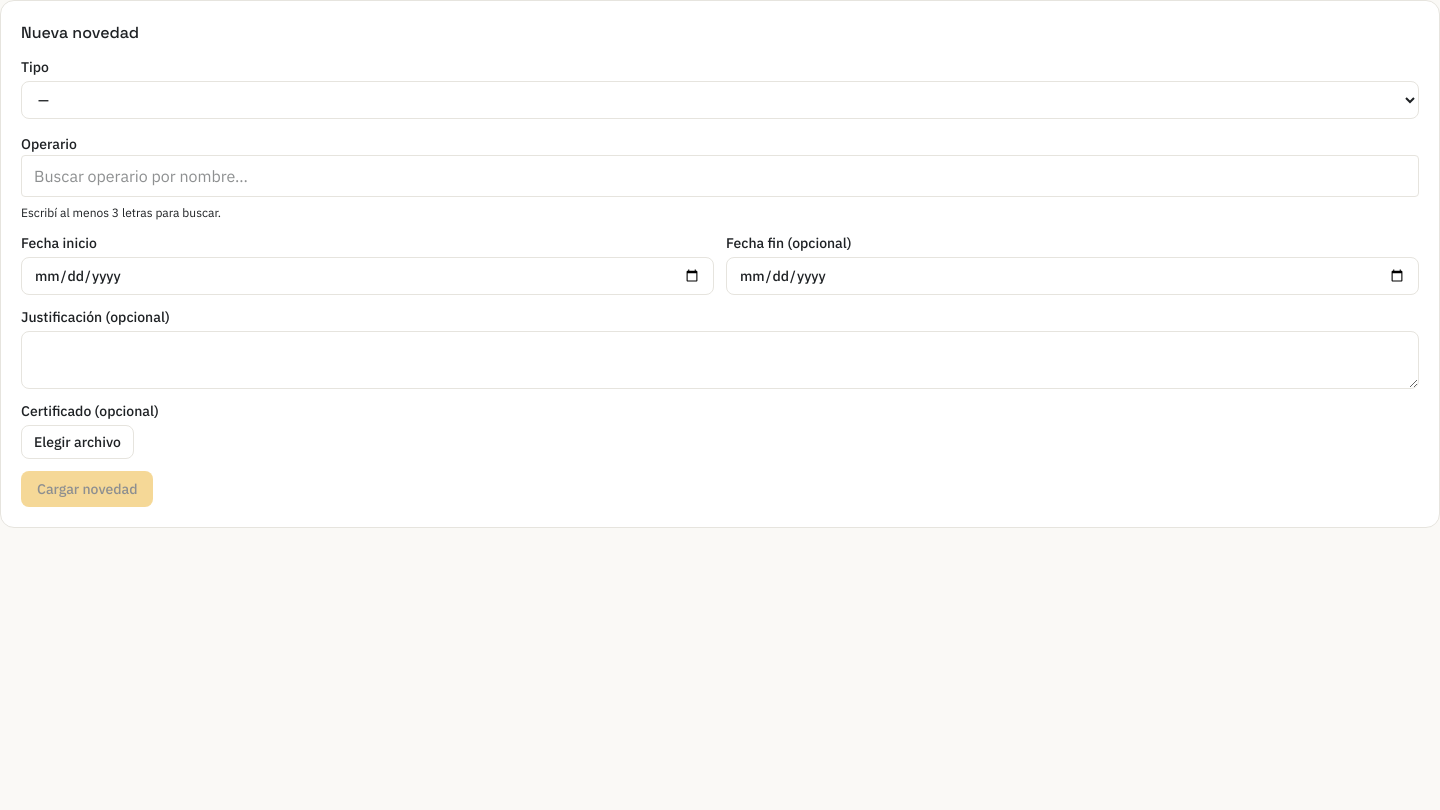
Test case: NuevaNovedadForm › Baja de Operario › cancelar la confirmación no envía nada
Type "gomez" into the field with placeholder "Buscar operario por nombre…" at [720, 176], box [21,155,1419,197]
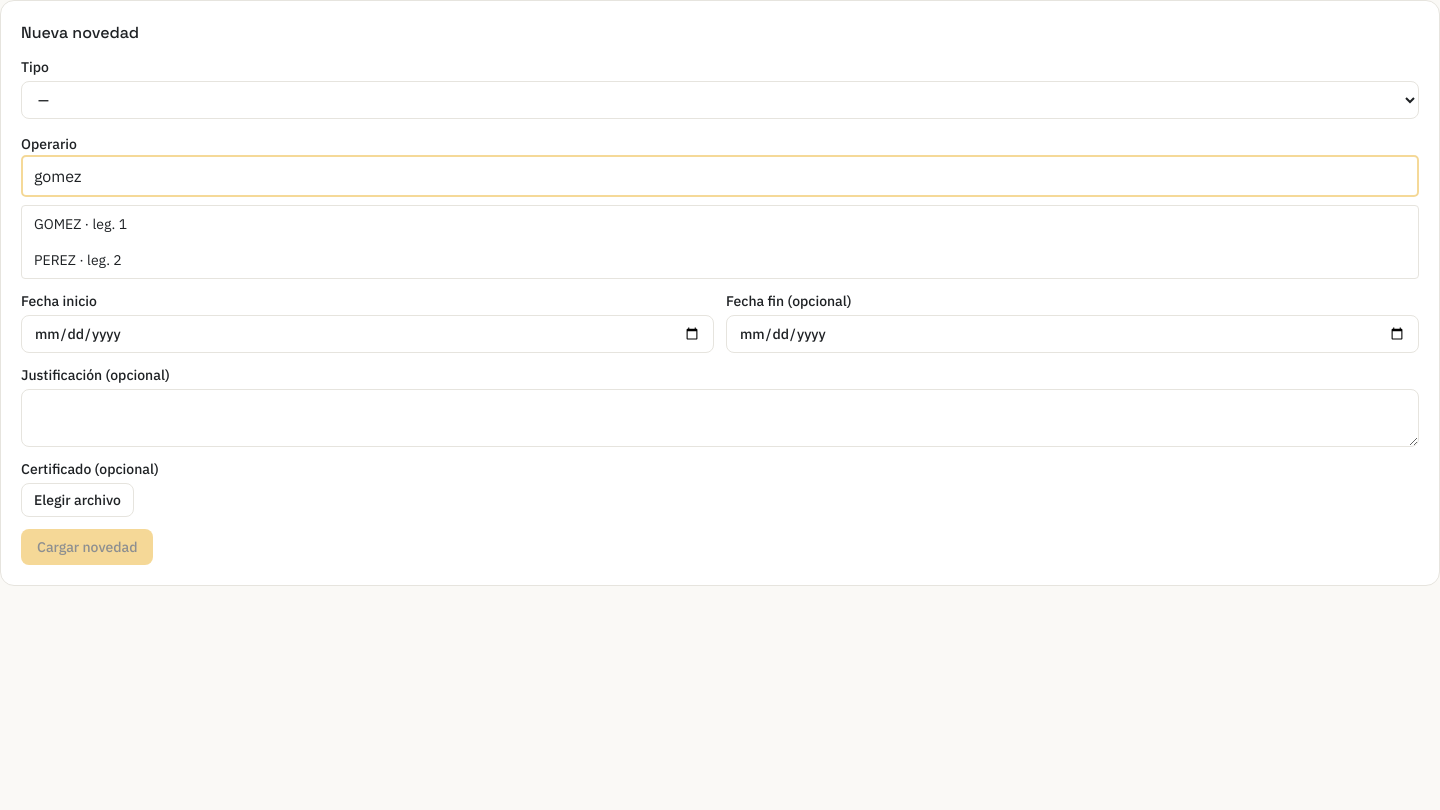
Click the button "GOMEZ · leg. 1" at [58, 224], box [22,206,1418,242]
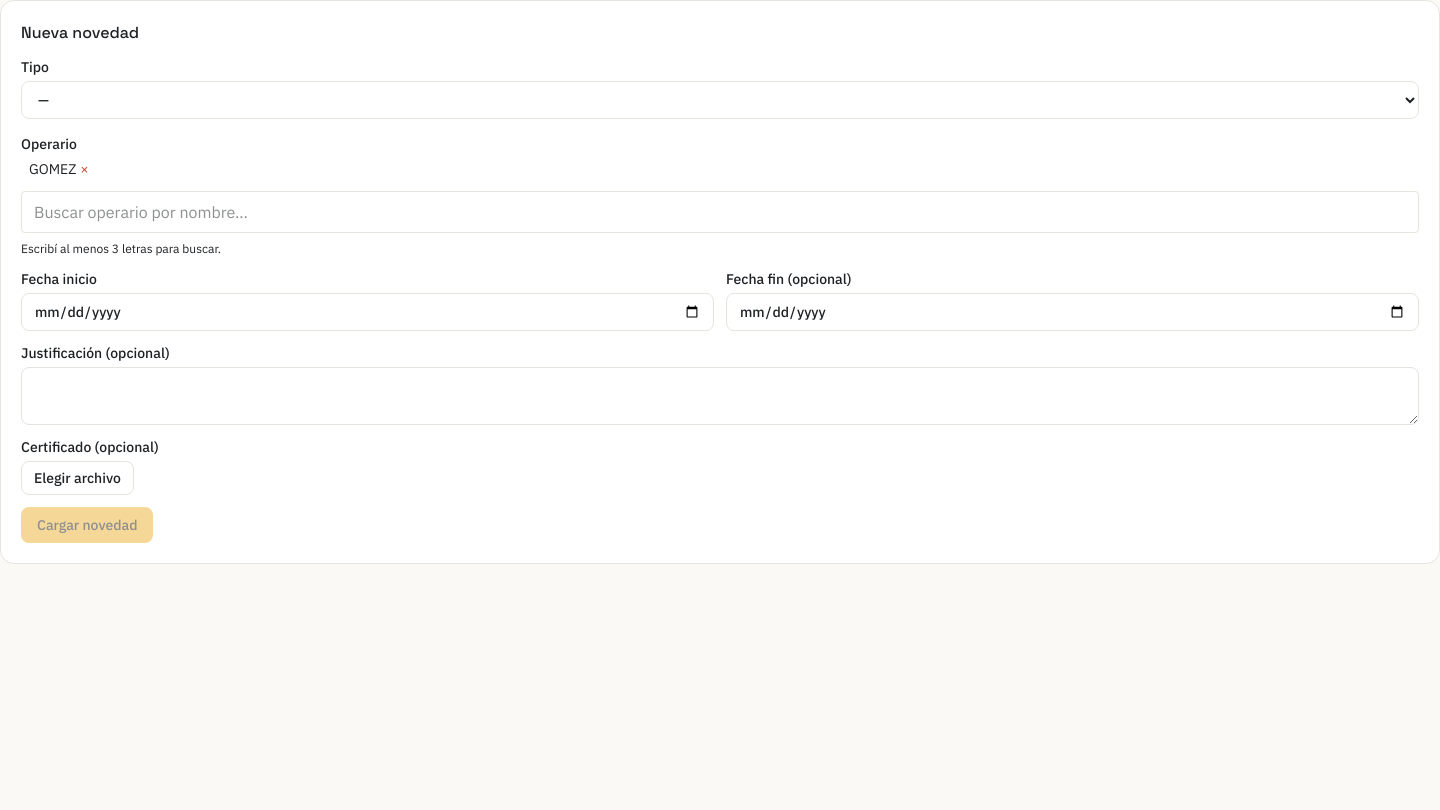
Select "Baja de Operario" in the dropdown labelled "Tipo" at [720, 100], box [21,81,1419,119]
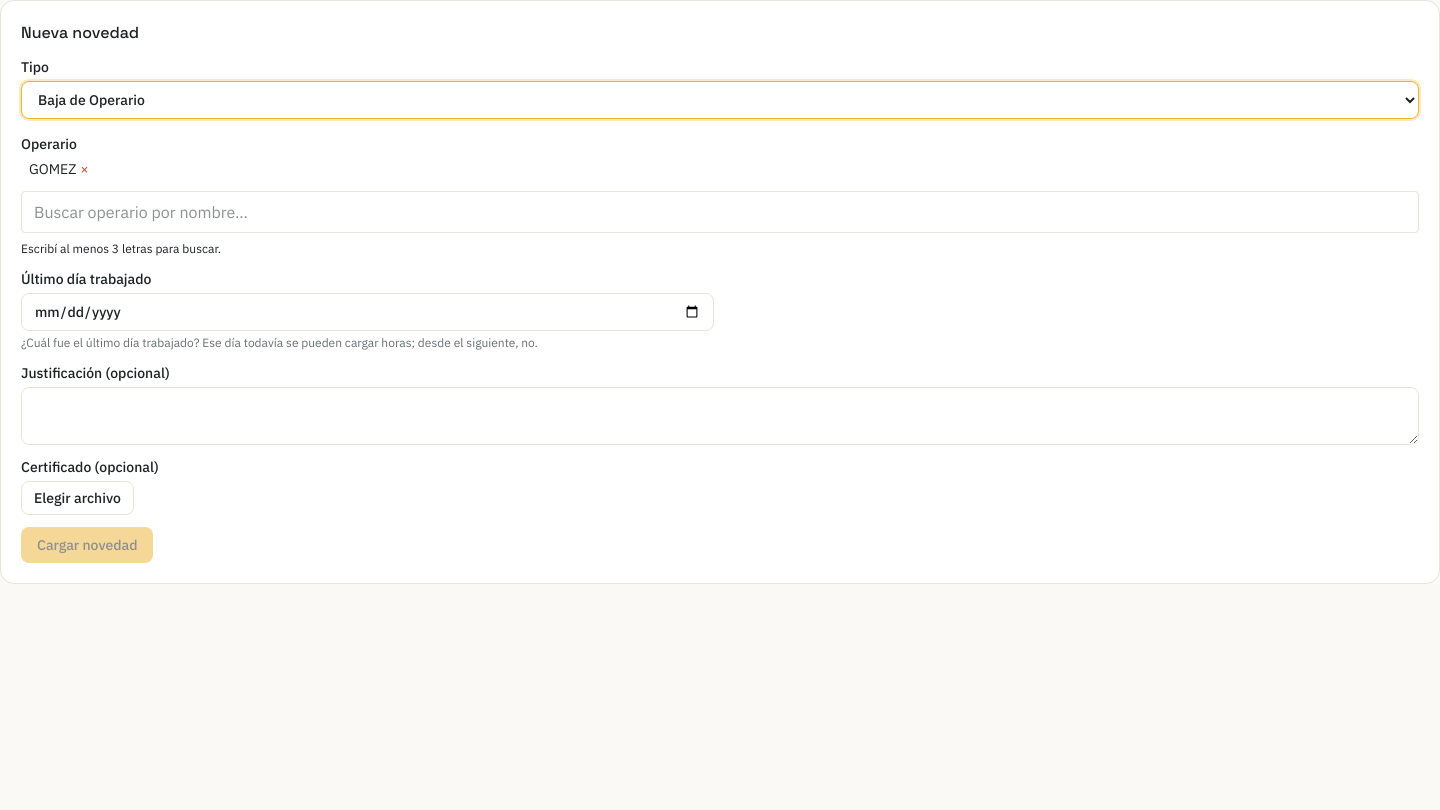
Type "2026-10-10" into the date field named "Fecha inicio" at [368, 312], box [21,293,714,331]
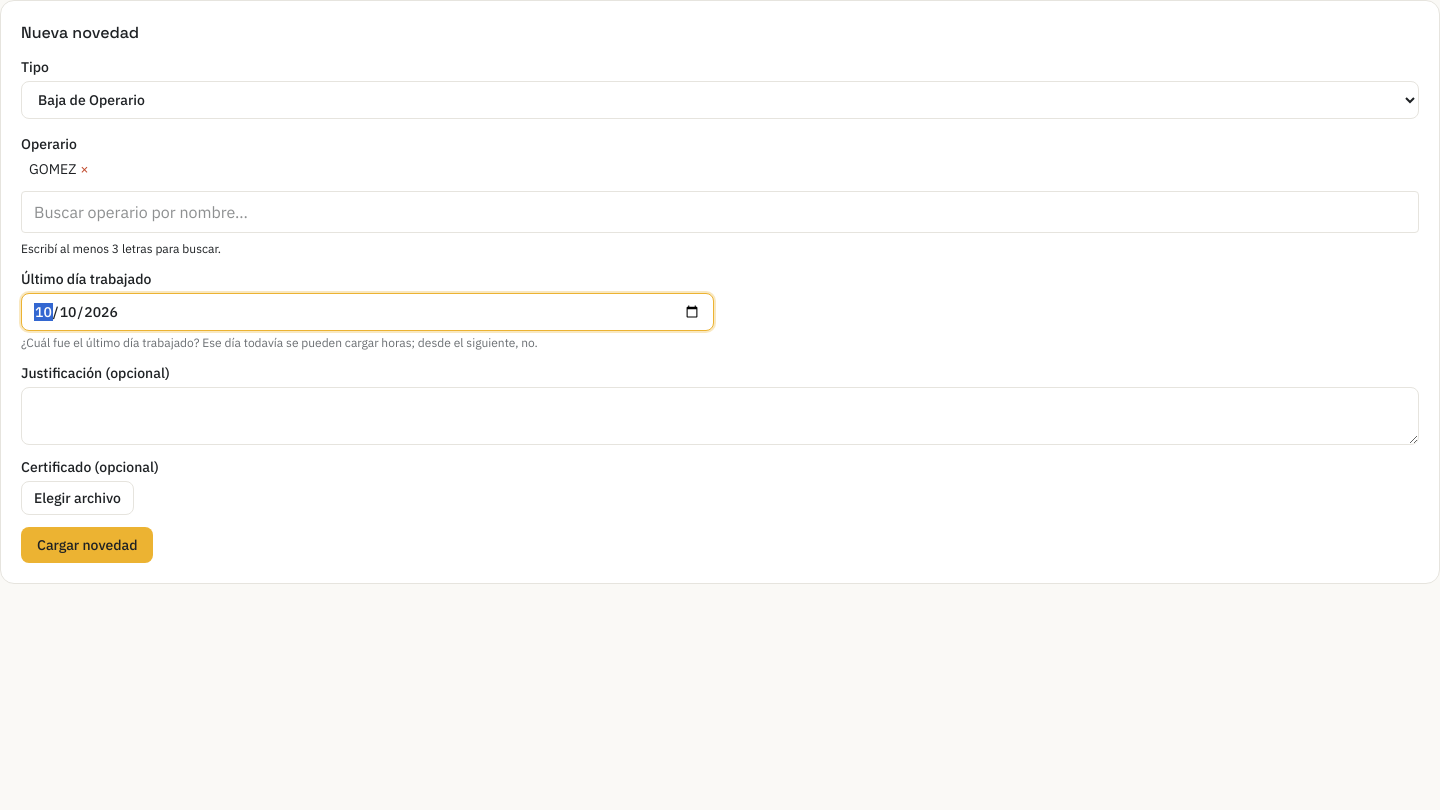
Click the button "Cargar novedad" at [87, 545], box [21,527,154,563]
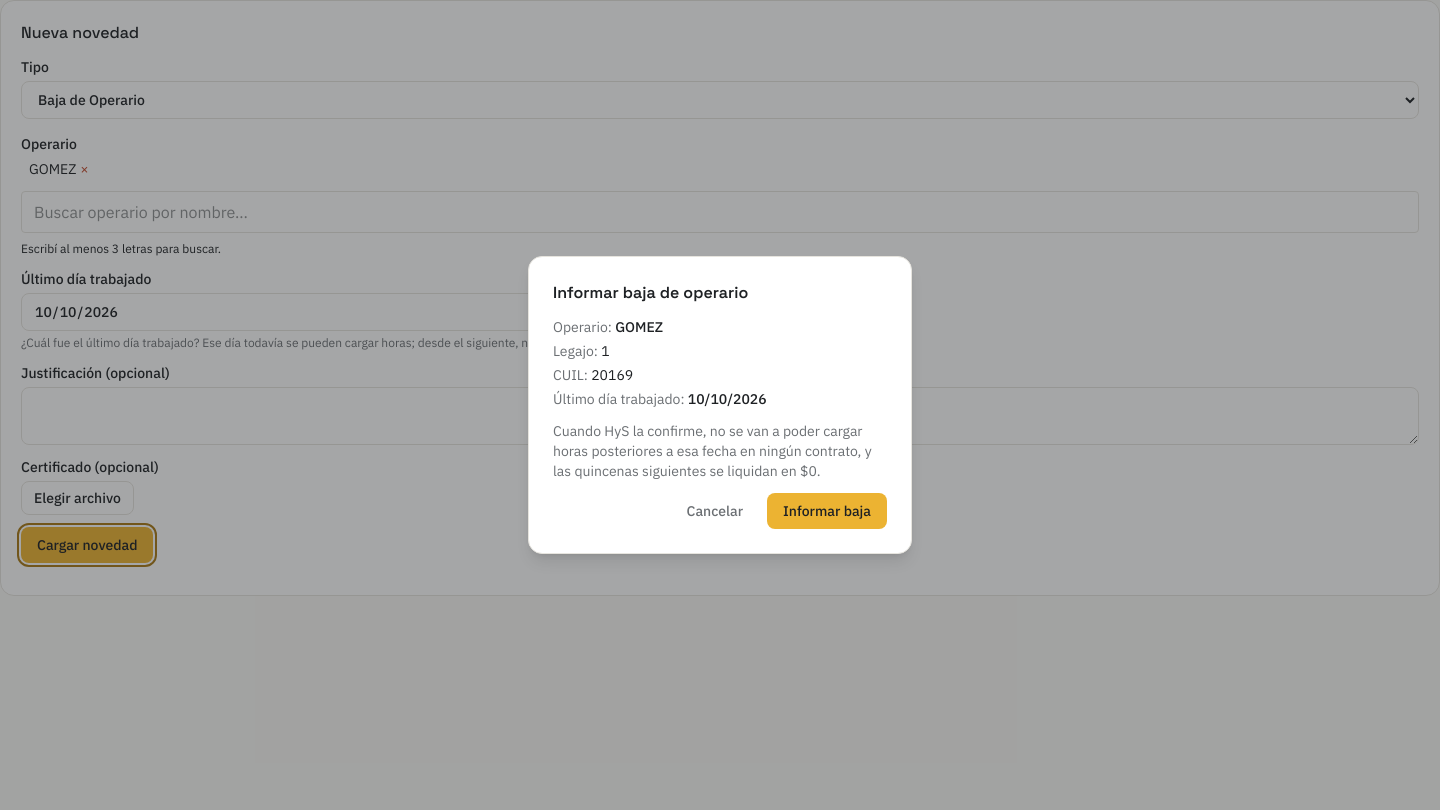
Click the button "Cancelar" at [715, 511], box [670,493,759,529]
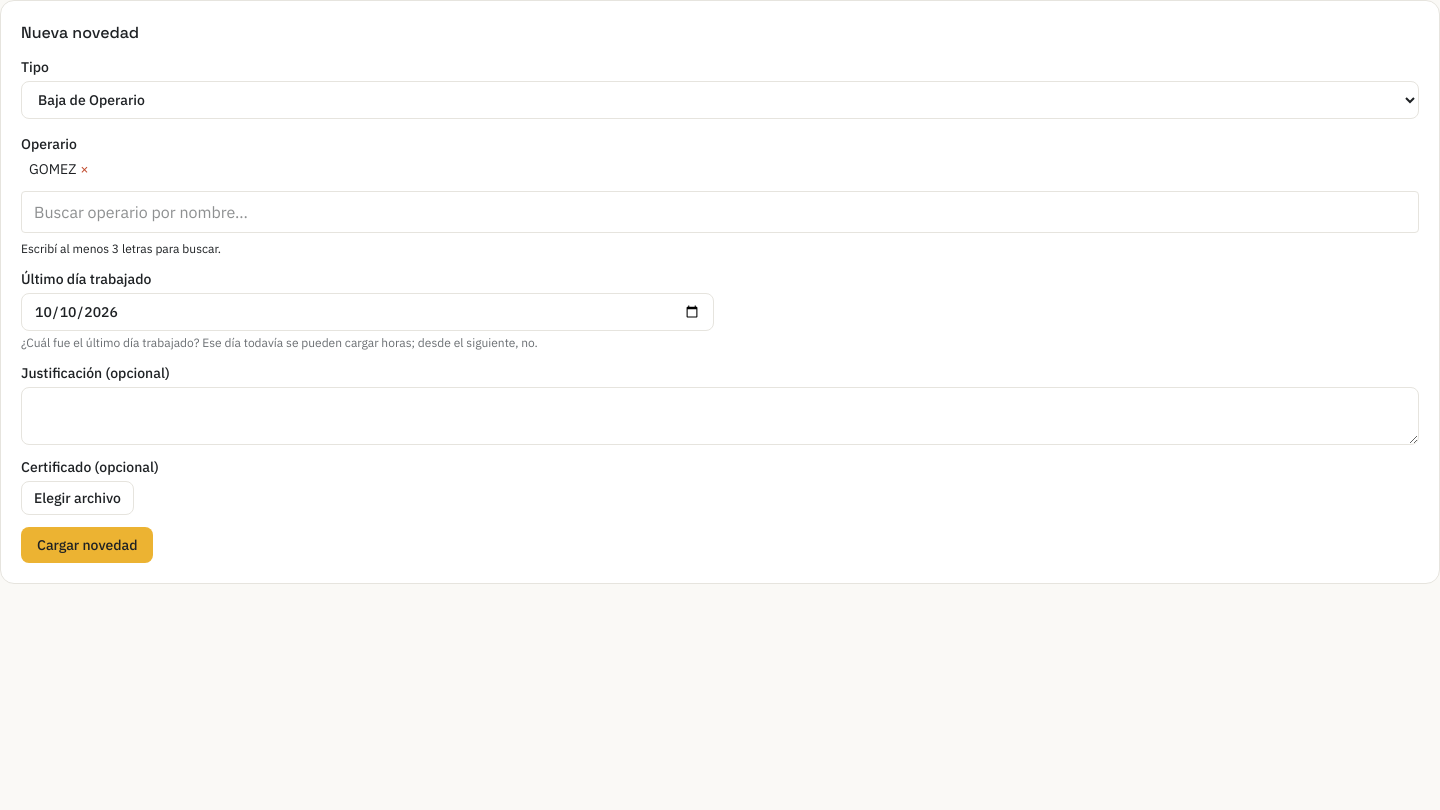
Expected: the dialog is gone
